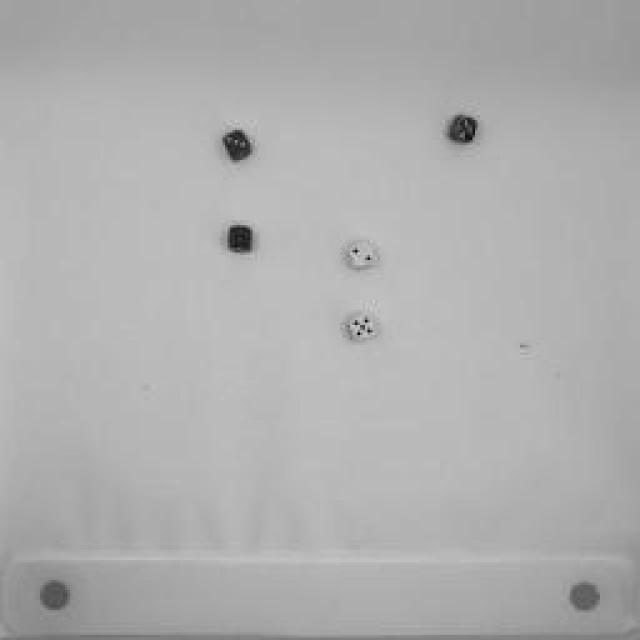dice_2: (342, 237, 378, 275)
dice_3: (222, 126, 252, 164), (230, 222, 255, 262)
dice_5: (445, 115, 480, 150), (345, 315, 377, 340)
